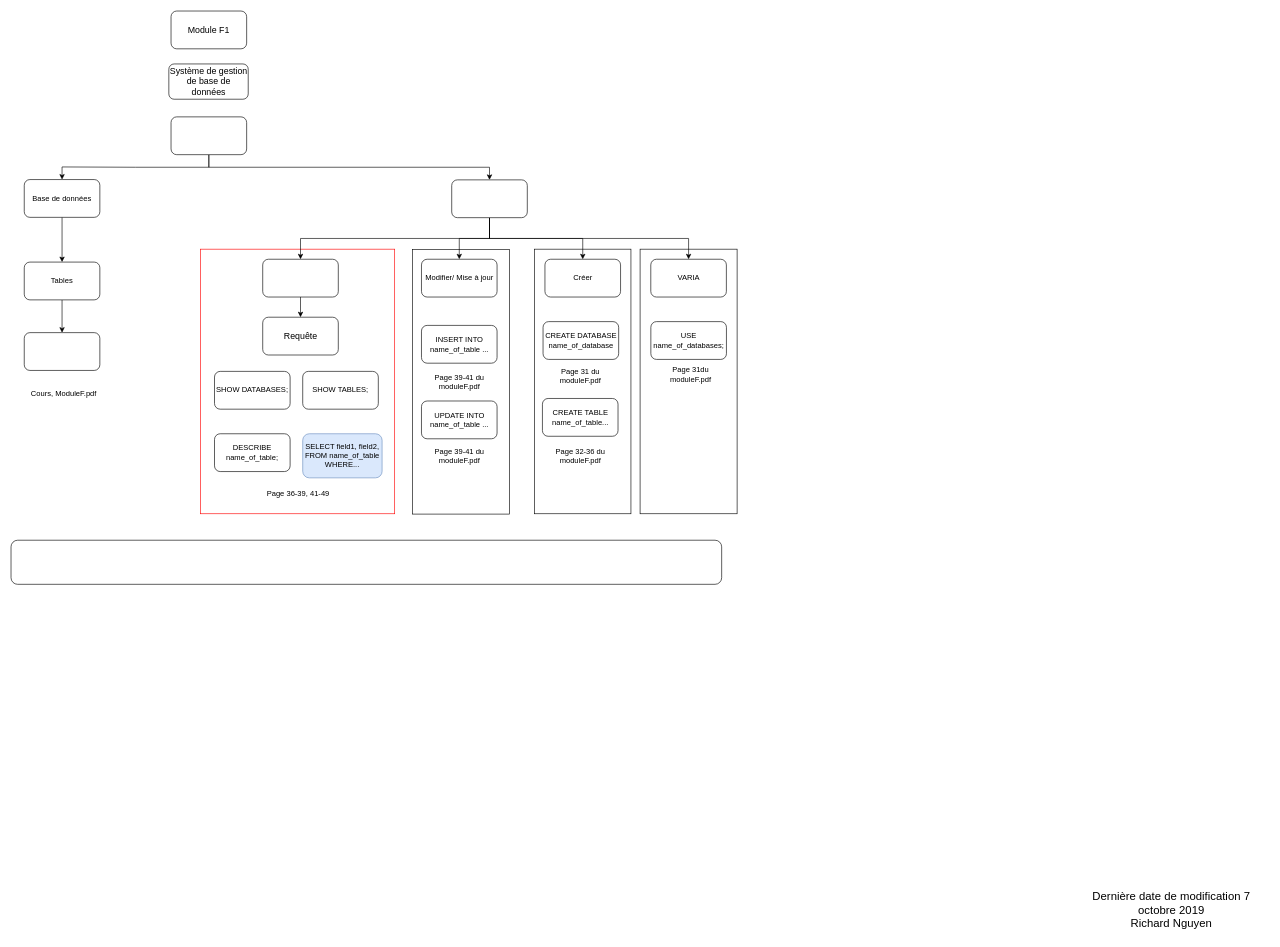
The diagram is 1280 pixels wide and 947 high, and some of its shapes have lost their labels. Each missing label, with the centre of its shape:
Affichage des données: point (300, 278)
Champs et leur types: point (62, 351)
Commande: point (489, 198)
Feuille aide mémoire sur MYSQL par Stefan Bracher et moduleF.pdf: point (366, 562)
MySQL: point (208, 135)
